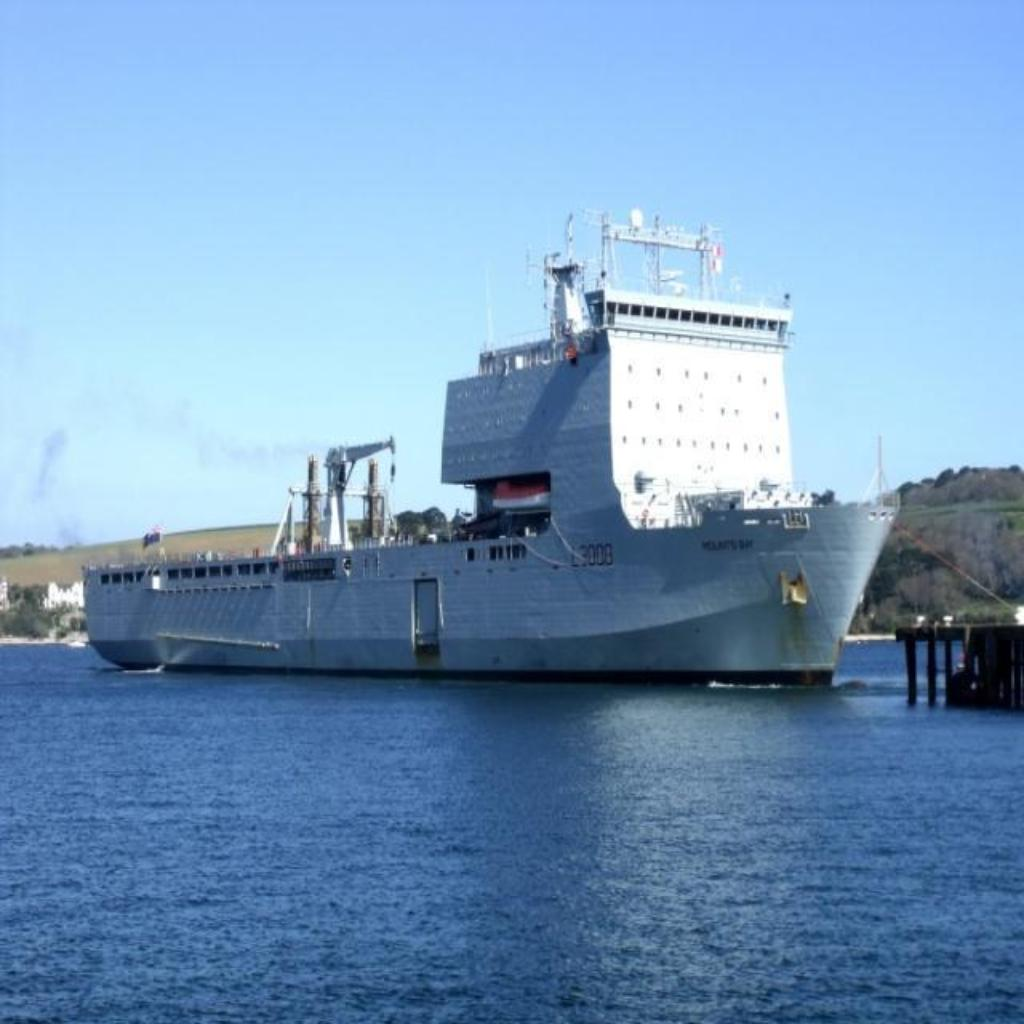Warship: (78, 196, 910, 692)
